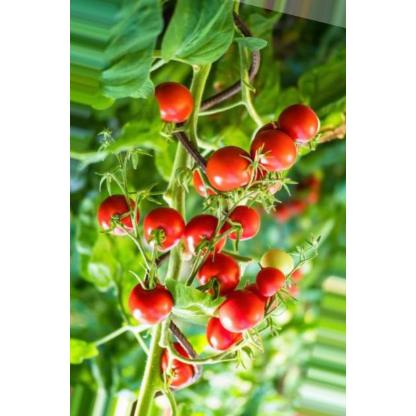tomato: (246, 122, 308, 174), (202, 142, 260, 194), (212, 288, 272, 336), (272, 96, 332, 142), (94, 192, 146, 244), (146, 80, 202, 128), (123, 277, 179, 325), (140, 202, 184, 260), (193, 249, 241, 300), (152, 338, 198, 390), (183, 212, 227, 258), (200, 313, 242, 353), (249, 268, 297, 298), (260, 244, 296, 280), (230, 202, 262, 242), (191, 166, 220, 204)
